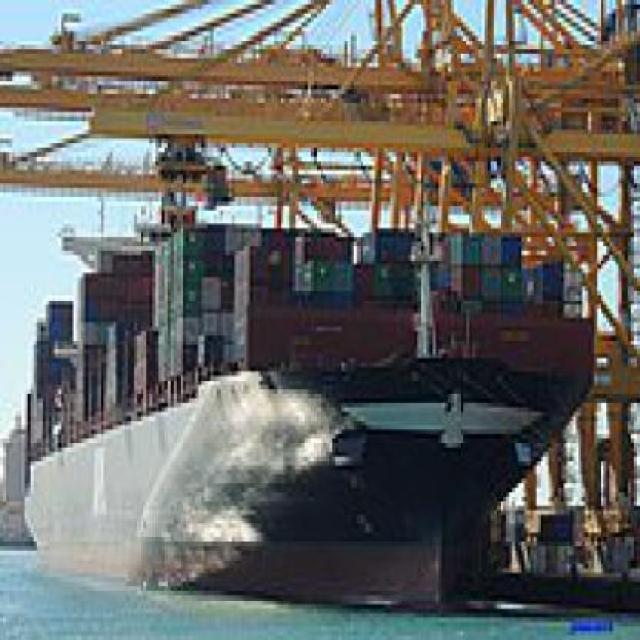container: (19, 202, 602, 623)
